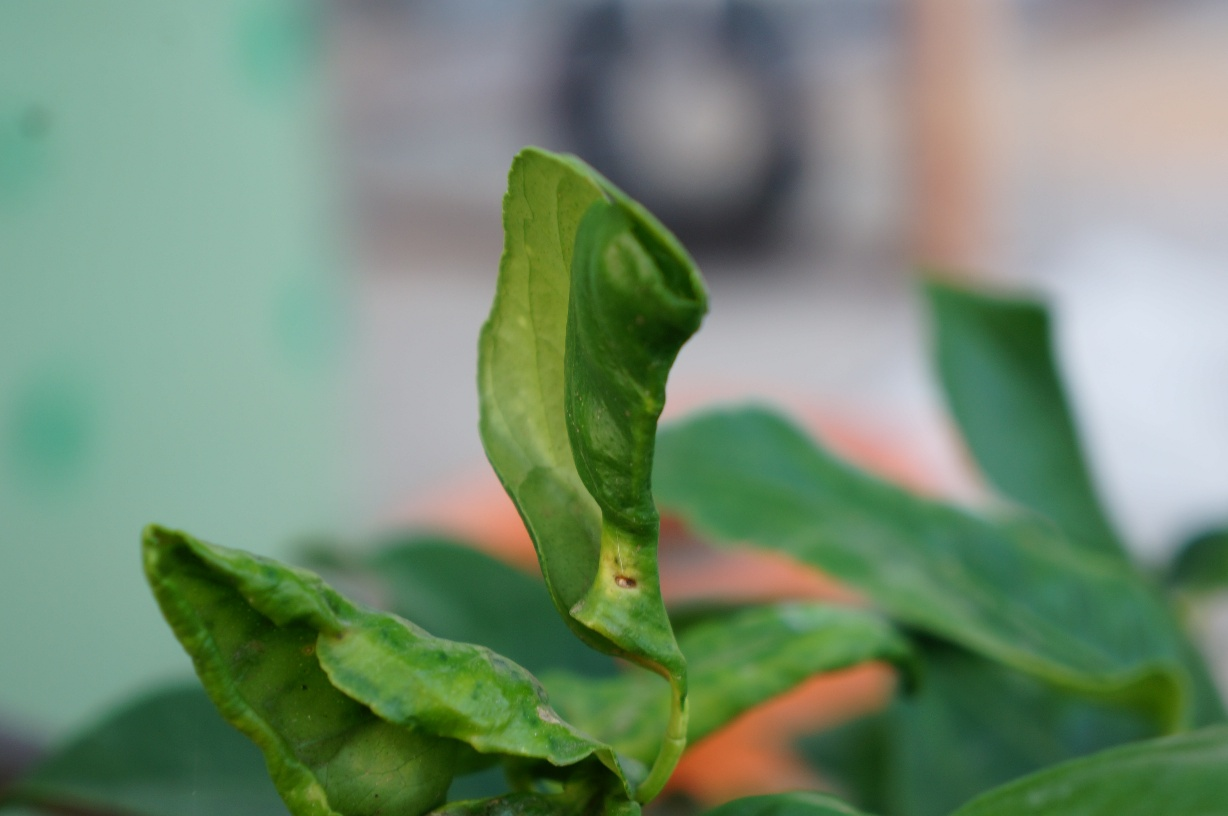curly: (118, 506, 668, 816), (471, 129, 728, 682)
